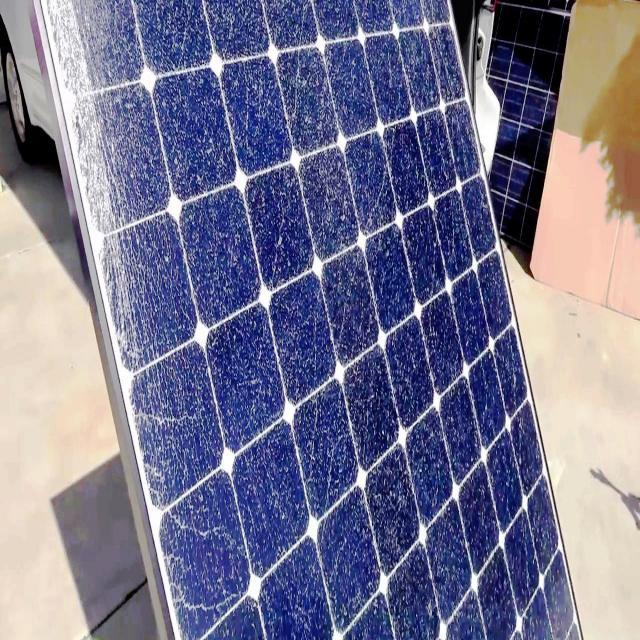faulty: (38, 1, 588, 640)
